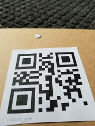QR_CODE: (5, 49, 92, 120)
